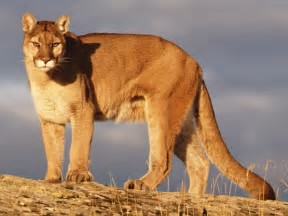Mountain Lion: (20, 9, 277, 202)
